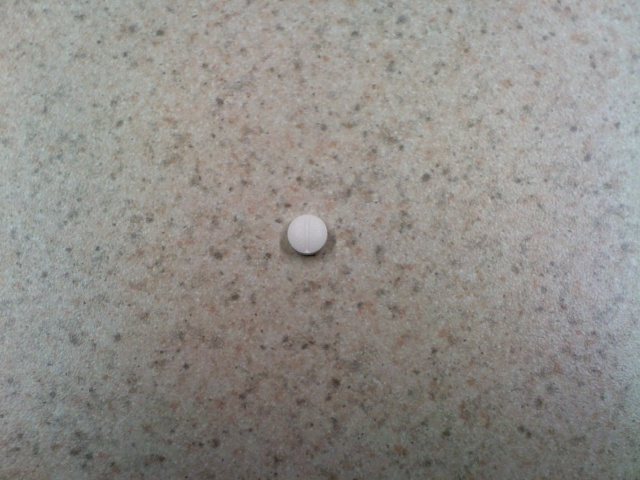|: (301, 214, 315, 257)
